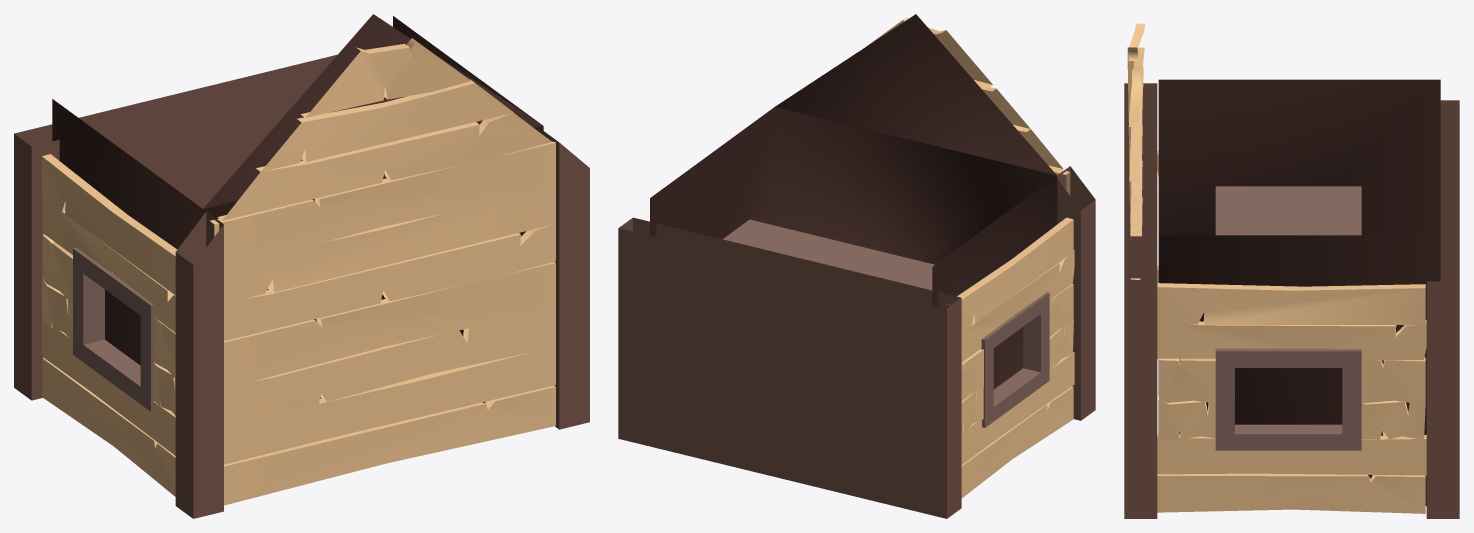
File: Building_Wall_002.glb
3 renders of one model, left to right at view 1: azimuth 30°, elevation 25°; view 2: azimuth 150°, elevation 25°; view 3: azimuth 270°, elevation 25°, orthographic. The views are drawn at different scales.
Visible parts, largest first — view 1: Building_Wall_002; view 2: Building_Wall_002; view 3: Building_Wall_002.
Part boxes in pixels (x1,y1,x2,y2): Building_Wall_002: [14, 14, 589, 518]; Building_Wall_002: [618, 14, 1095, 518]; Building_Wall_002: [1124, 23, 1459, 518].
Size of the model in its own units: 7.12 by 7.61 by 5.58.
1 material, 1 textured.
